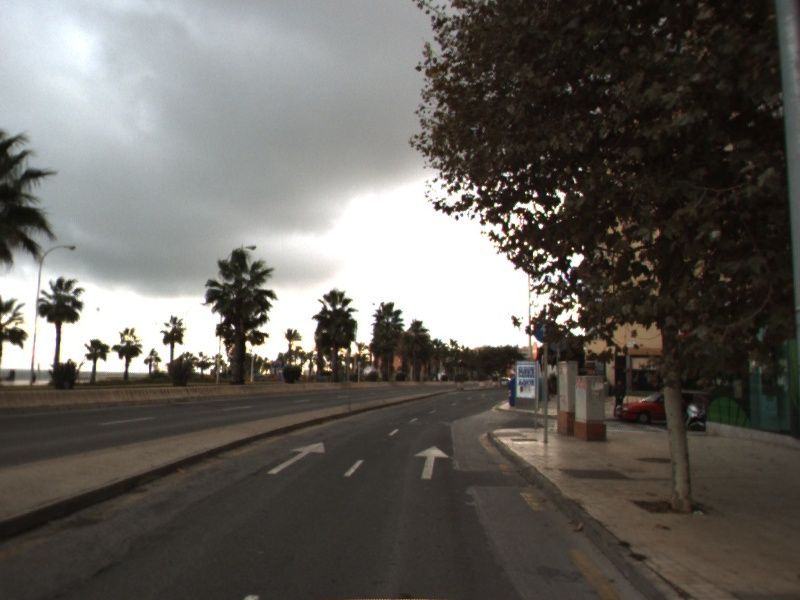STRAIGHT: (266, 439, 326, 475), (412, 444, 451, 480)
